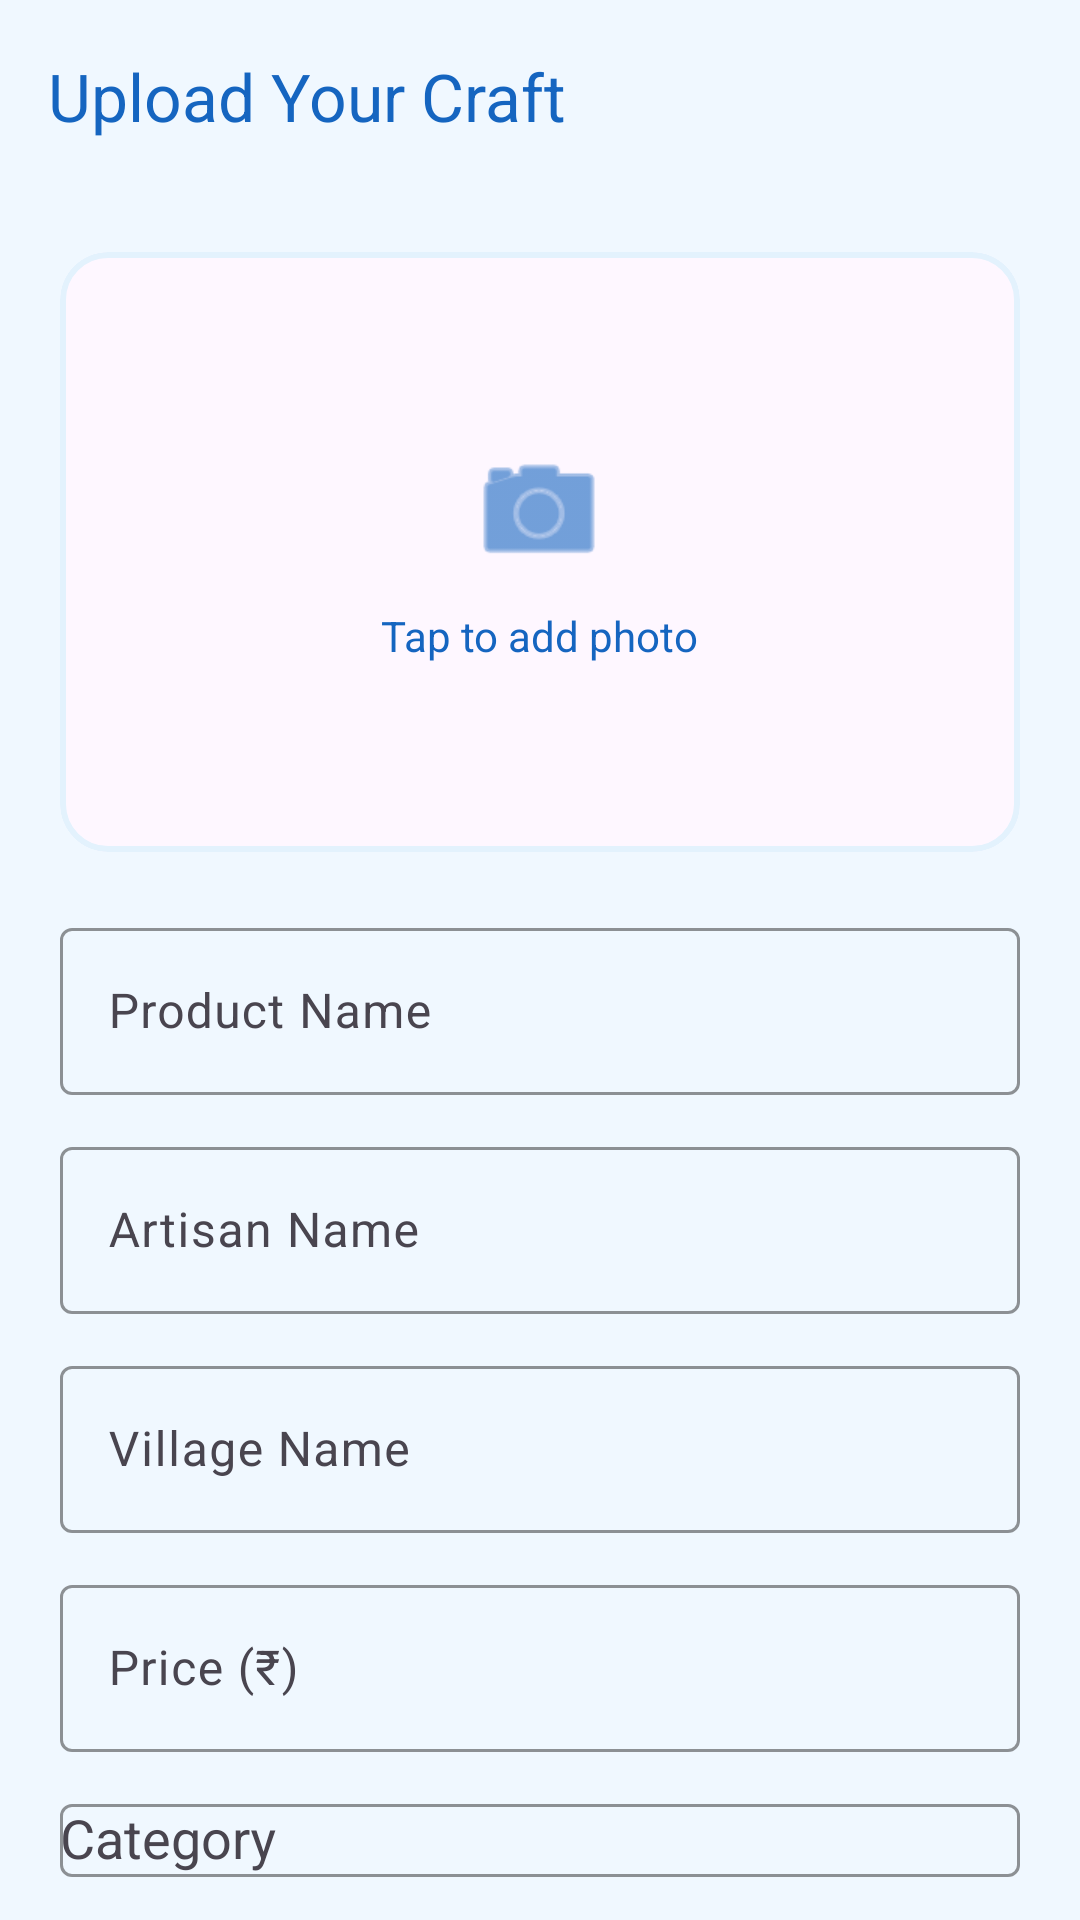

Icons on this 1080×1920 Android screen, each with the point to tap as (x,y):
camera: (539,508)
